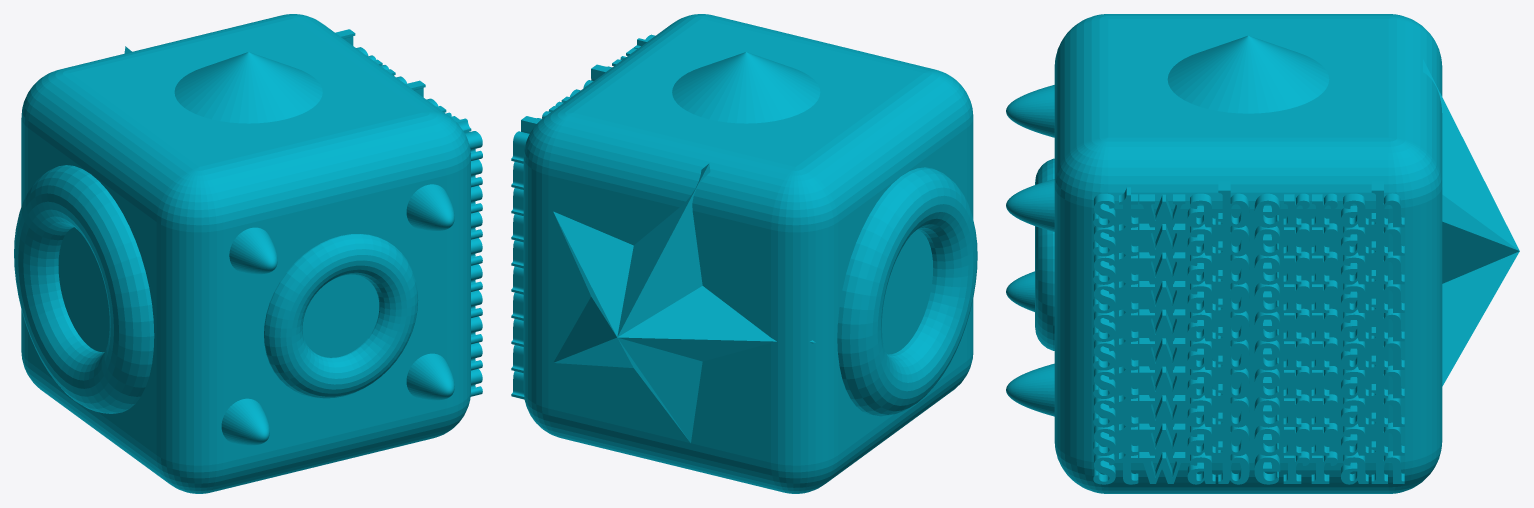
Rendered from X - cedar skydiver.glb.
3 views of the same model, side by side, from view 1: azimuth 30°, elevation 25°; view 2: azimuth 150°, elevation 25°; view 3: azimuth 270°, elevation 25° (orthographic). The views are drawn at different scales.
Parts seen in each view (by area): view 1: Mesh_Mesh_head_geo.001_lambert2SG.001; view 2: Mesh_Mesh_head_geo.001_lambert2SG.001; view 3: Mesh_Mesh_head_geo.001_lambert2SG.001.
Part boxes in pixels (x1=…): Mesh_Mesh_head_geo.001_lambert2SG.001: x1=14, y1=14, x2=482, y2=493; Mesh_Mesh_head_geo.001_lambert2SG.001: x1=511, y1=14, x2=977, y2=493; Mesh_Mesh_head_geo.001_lambert2SG.001: x1=1006, y1=14, x2=1519, y2=493.
Bounding box in the file's own units: 0.0447 × 0.045 × 0.053.
